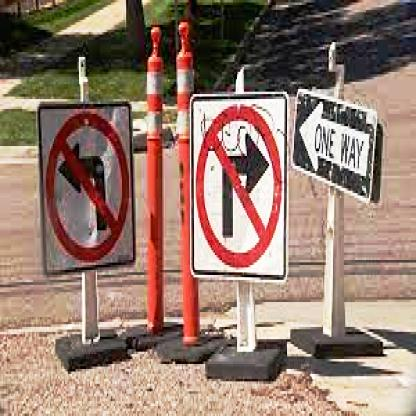No left turn: (36, 98, 135, 265)
